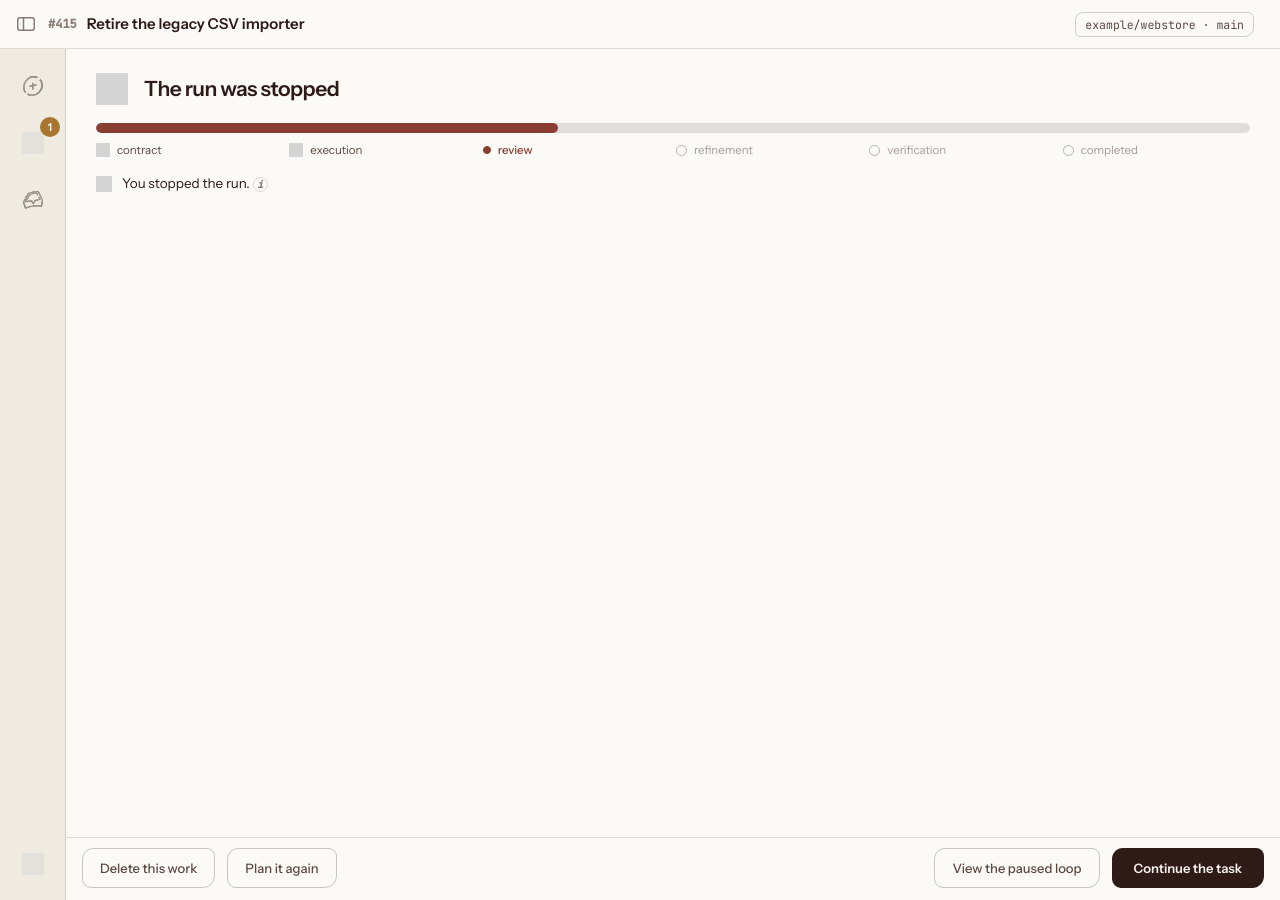
UI v2 › plans a stopped run again from its spec, in place of the record it deletes
The width and height of the screenshot is (1280, 900).
expect the heading "The run was stopped" is shown: met, box [144,75,339,103]
Step 1. Click the button "Plan it again" → {"x": 282, "y": 868}, box [227,848,337,888]
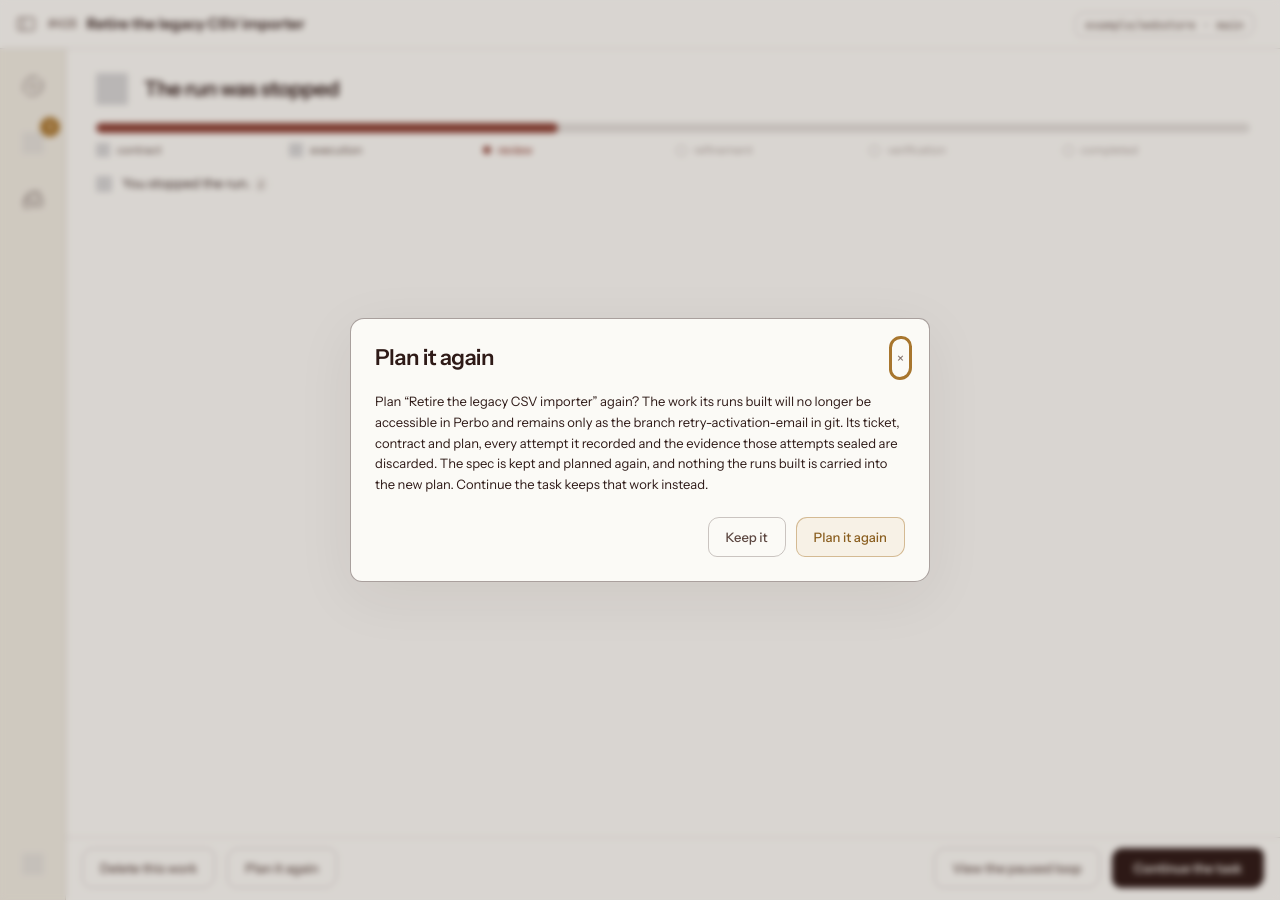
Step 2. Click the button "Plan it again" → {"x": 850, "y": 537}, box [796,517,905,557]
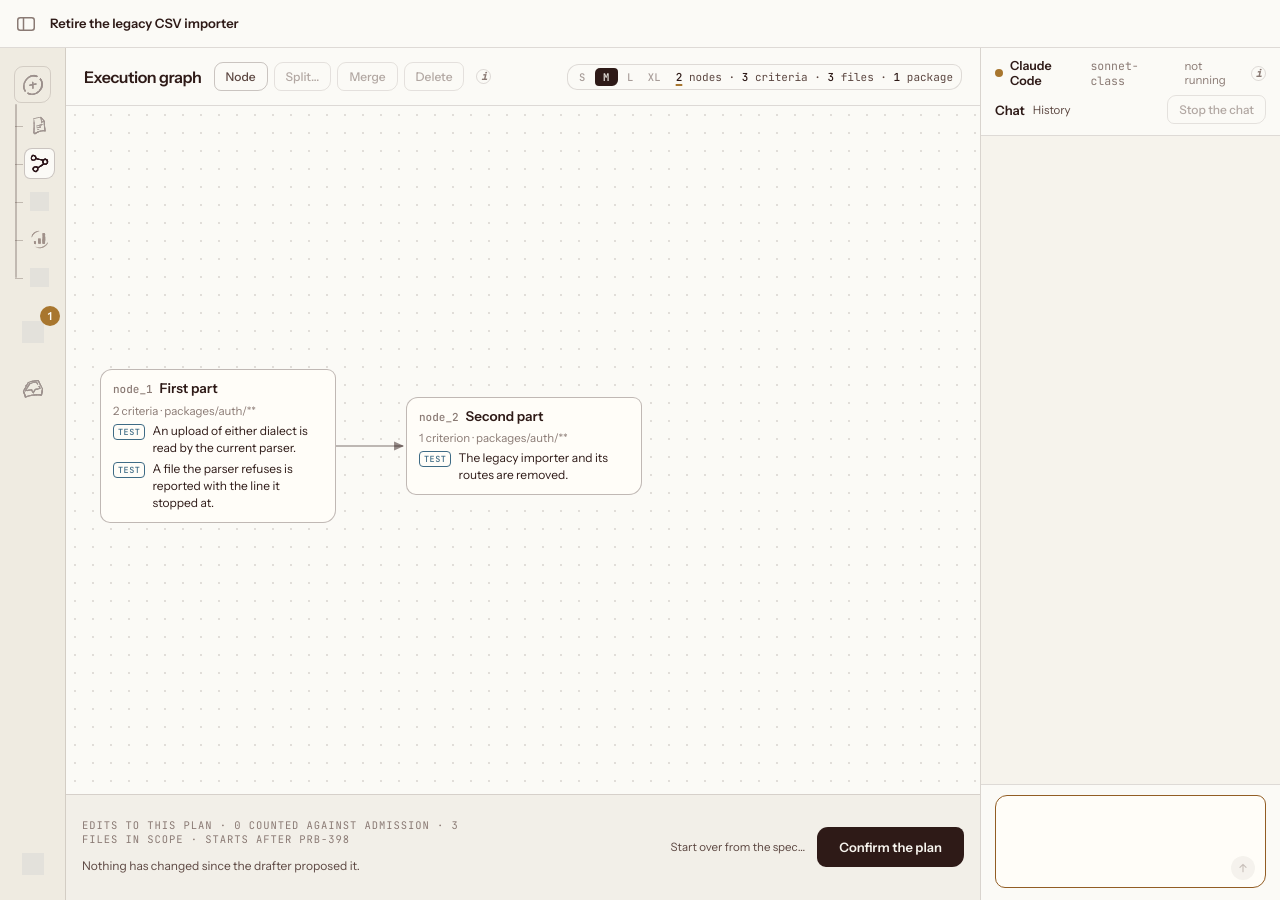
Step 3. Click the button named "Create" → {"x": 32, "y": 84}, box [14,66,51,103]
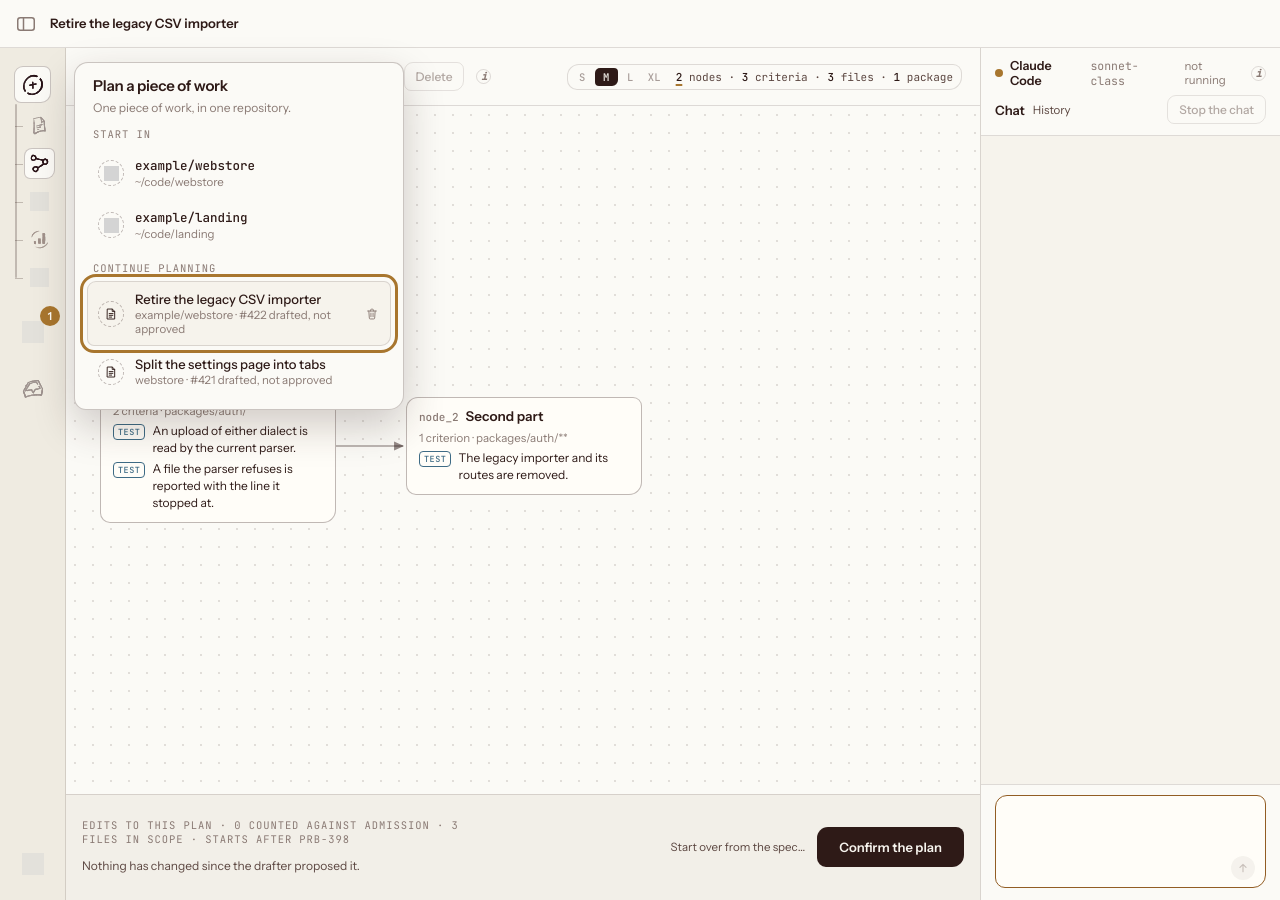
expect the button that starts with "Retire the legacy CSV importer" is shown: met, box [87,281,391,346]
